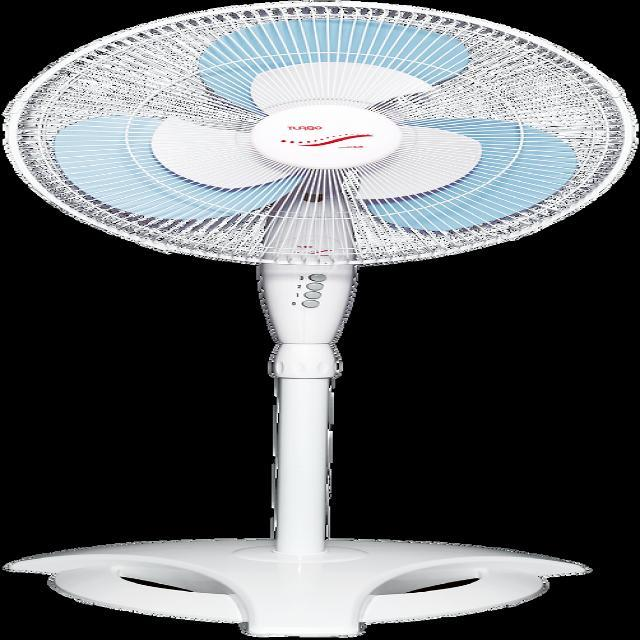fan: (0, 6, 637, 638)
